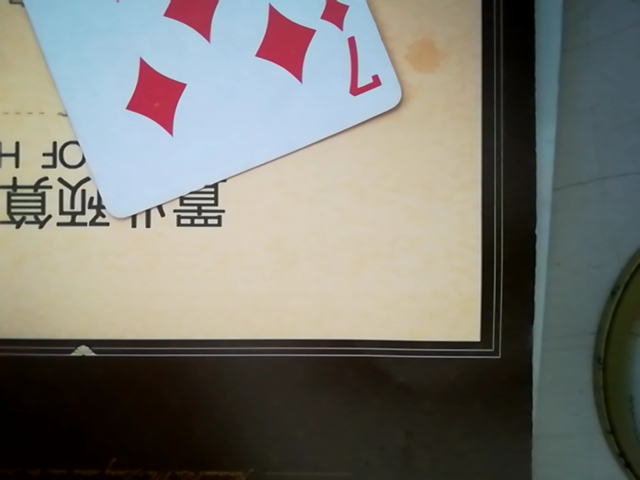fk 7: (0, 0, 405, 231)
